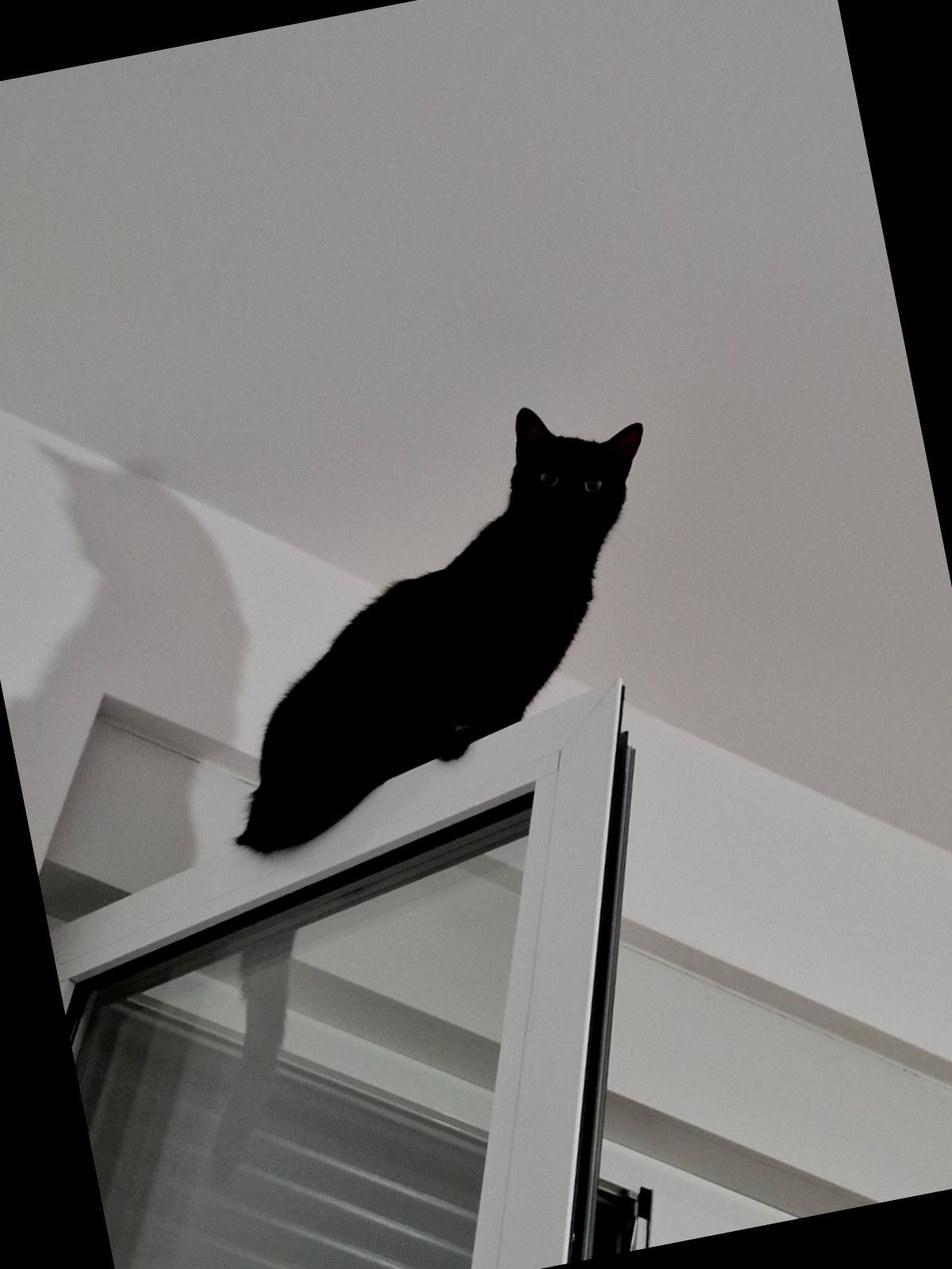macka: (168, 381, 714, 868)
